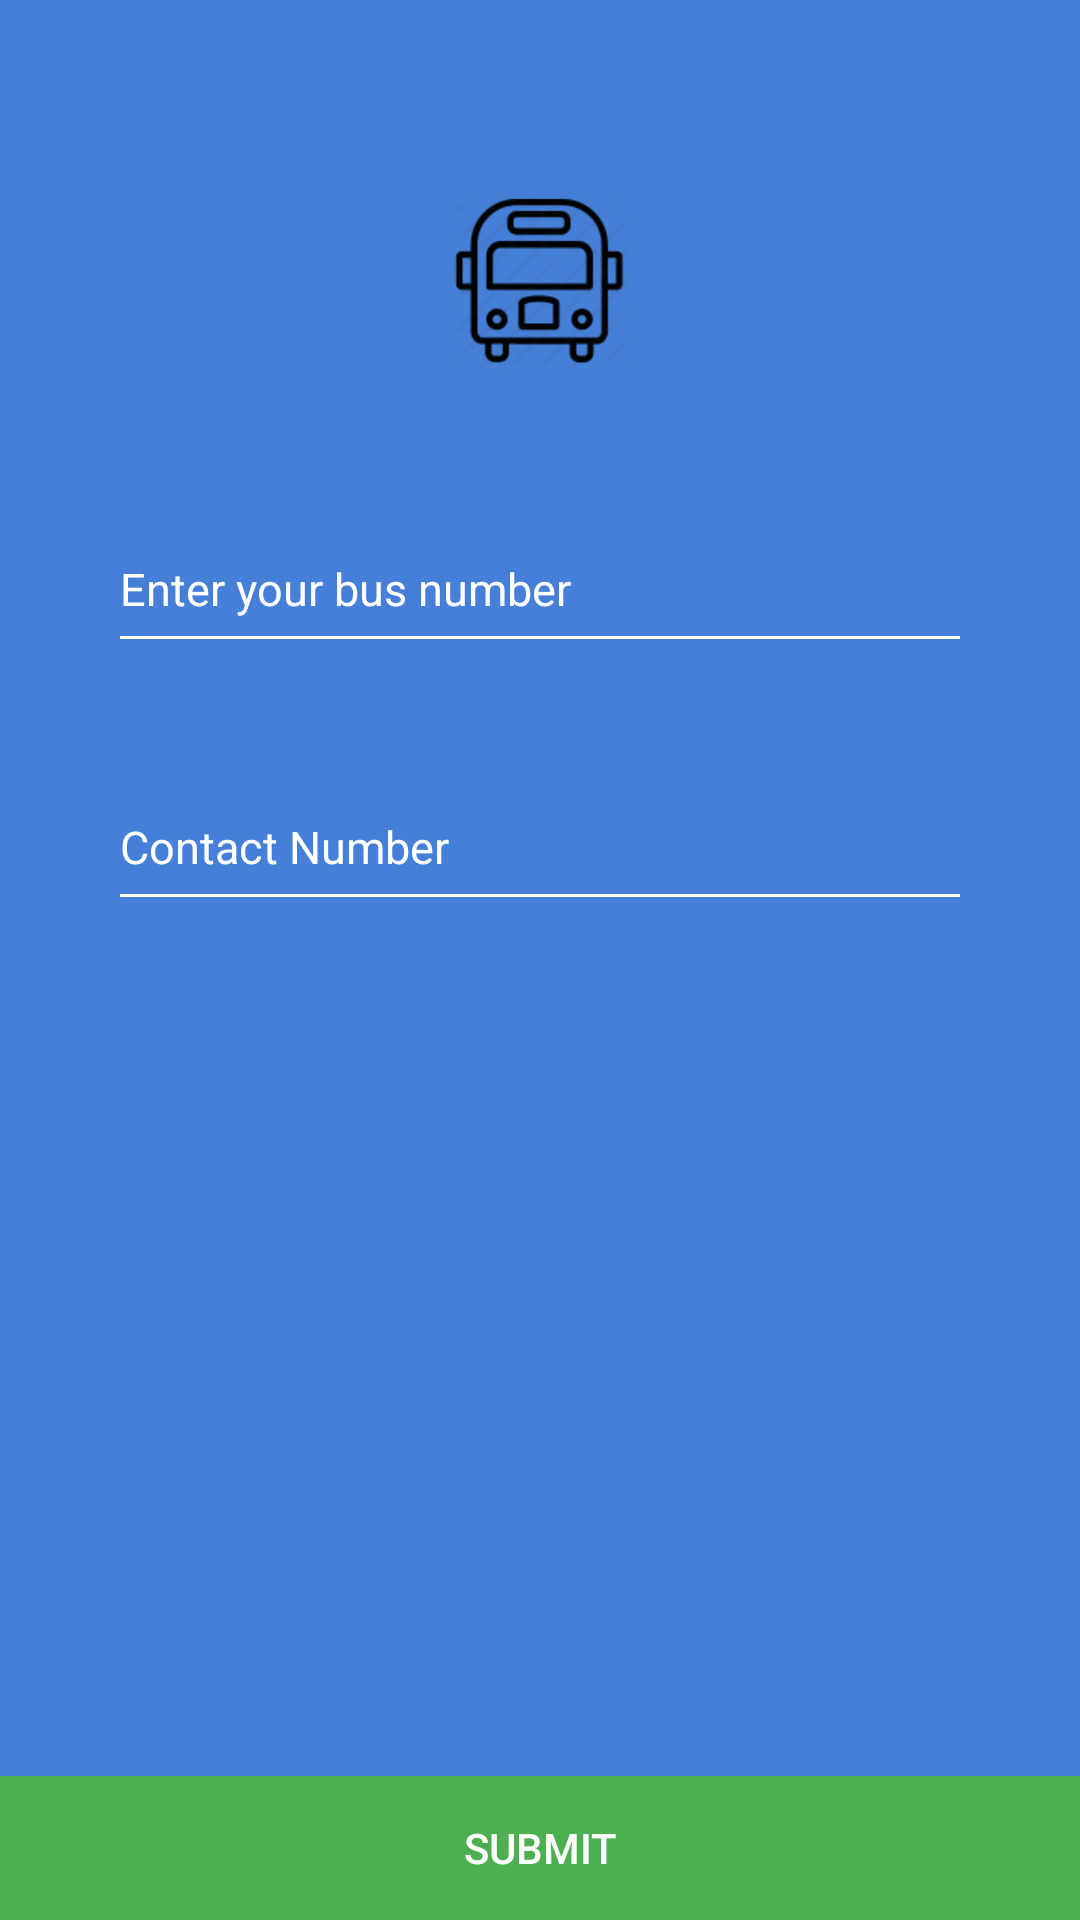

Icons on this 1080×1920 Android screen, each with its box as {"x1": x1, "y1": y1, "x2": x2, "y2": y2}:
schoolbus: {"x1": 455, "y1": 198, "x2": 624, "y2": 363}
